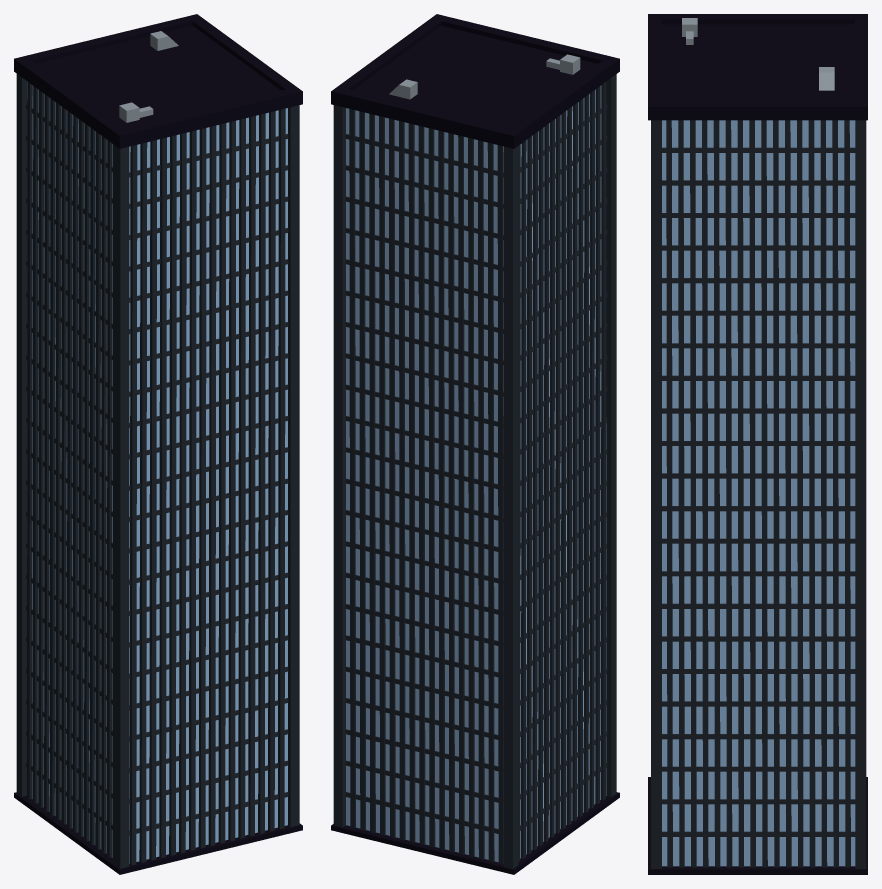
Rendered from Tower1.glb.
The picture shows the model from 3 angles, left to right: view 1: azimuth 30°, elevation 25°; view 2: azimuth 150°, elevation 25°; view 3: azimuth 270°, elevation 25°; orthographic projection. The views are drawn at different scales.
Parts seen in each view (by area): view 1: wall1, wall3, Glass, roof, floors, cornerstone1, cornerstone3, cornerstone4, base; view 2: wall2, wall3, Glass, roof, floors, cornerstone4, cornerstone2, cornerstone1, base; view 3: Glass, wall4, roof, floors, cornerstone2, cornerstone3, base.
Part boxes in pixels (left/top/right/bottom): wall1: left=129, top=108, right=285, bottom=865; wall3: left=27, top=82, right=114, bottom=861; Glass: left=27, top=81, right=287, bottom=863; roof: left=14, top=14, right=302, bottom=148; floors: left=26, top=104, right=288, bottom=835; cornerstone1: left=115, top=146, right=129, bottom=868; cornerstone3: left=288, top=105, right=299, bottom=826; cornerstone4: left=16, top=74, right=27, bottom=796; base: left=14, top=792, right=302, bottom=874; wall2: left=349, top=109, right=503, bottom=864; wall3: left=518, top=82, right=606, bottom=862; Glass: left=346, top=85, right=606, bottom=862; roof: left=331, top=14, right=619, bottom=148; floors: left=345, top=104, right=607, bottom=834; cornerstone4: left=504, top=146, right=518, bottom=868; cornerstone2: left=333, top=105, right=345, bottom=827; cornerstone1: left=606, top=74, right=616, bottom=796; base: left=331, top=792, right=619, bottom=874; Glass: left=662, top=120, right=855, bottom=866; wall4: left=666, top=120, right=850, bottom=867; roof: left=648, top=14, right=867, bottom=120; floors: left=662, top=147, right=855, bottom=836; cornerstone2: left=855, top=120, right=866, bottom=868; cornerstone3: left=651, top=120, right=661, bottom=868; base: left=648, top=777, right=867, bottom=874.
Size of the model in its own units: 20 by 77.92 by 20.
